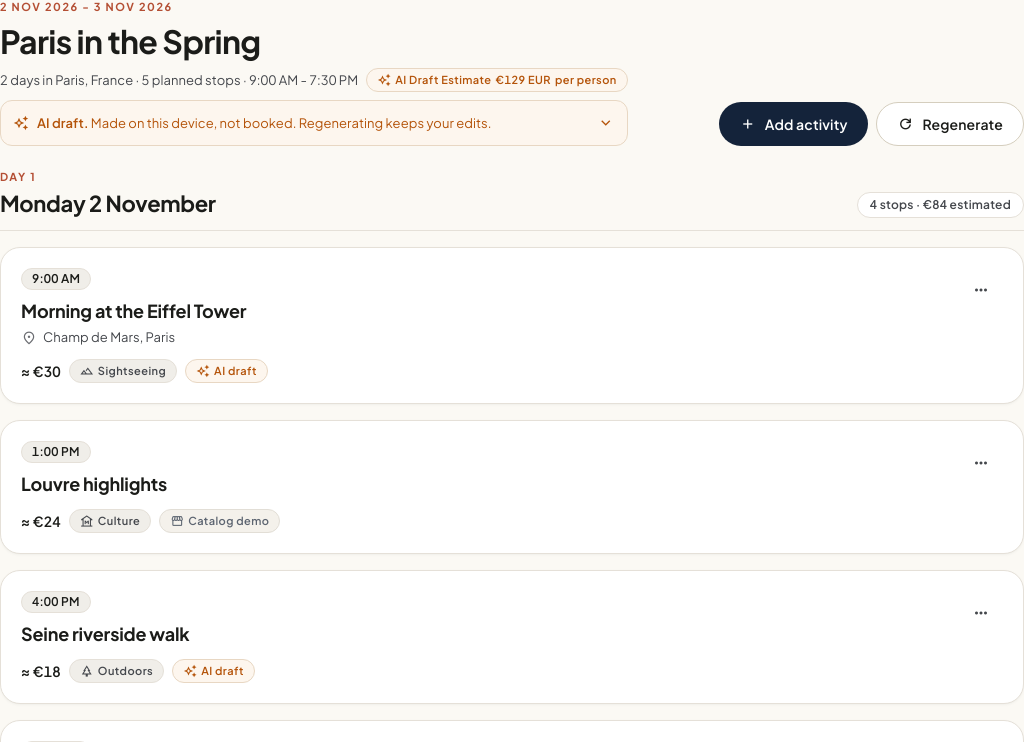
it: ItineraryPage › editing a stop › prefills the existing details and marks the stop as edited on save
Expected: the heading "Paris in the Spring" is shown, [0,21,261,61]
Click the button without text in the row of "Morning at the Eiffel Tower" at {"x": 981, "y": 290}, box [959,268,1003,312]
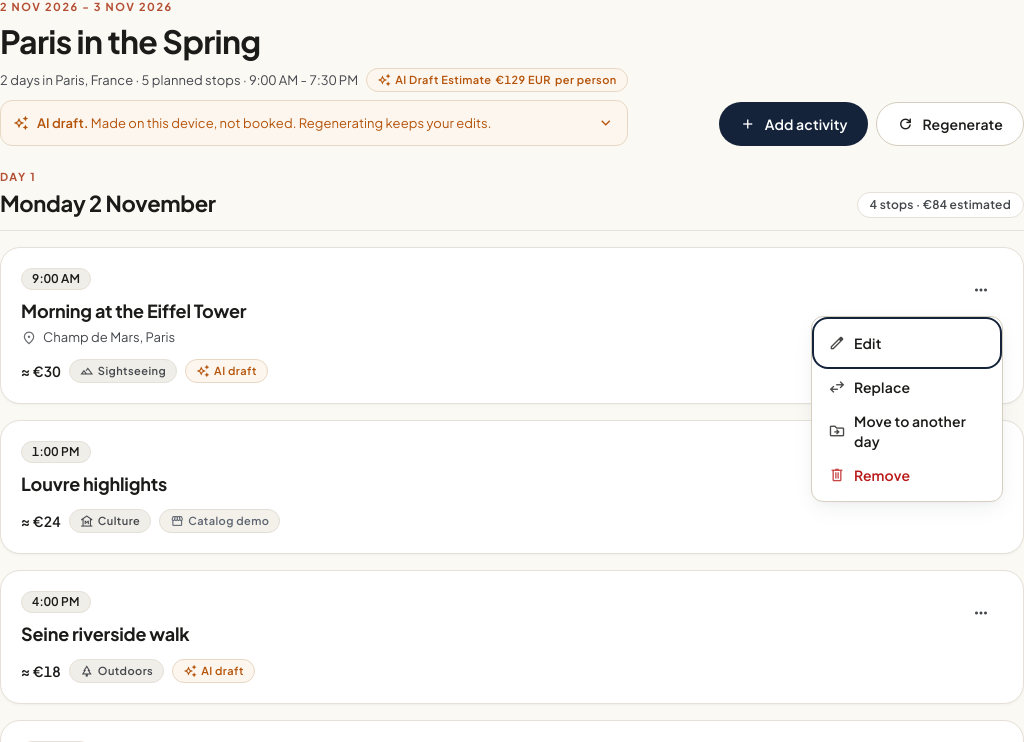
Click the menu item "Edit" at {"x": 907, "y": 343}, box [816,321,998,365]
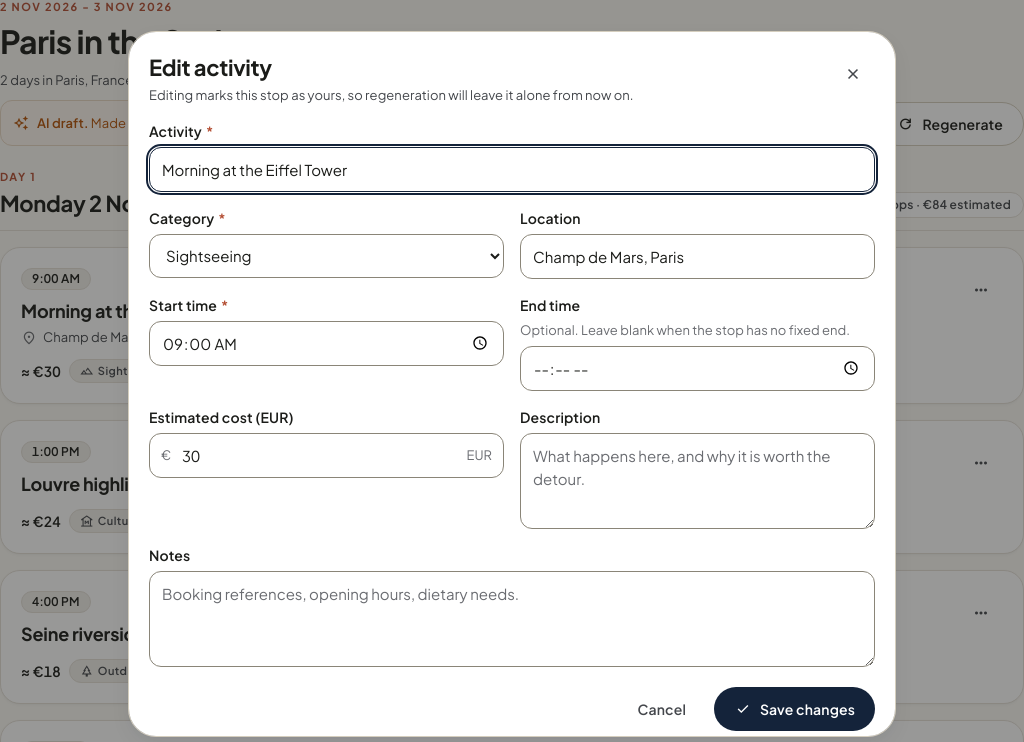
Now the heading "Edit activity" is shown, box [149,53,272,81]
Now the text "Editing marks this stop as yours, so regeneration will leave it alone from now on." is shown, box [149,87,634,103]
Now the field labelled "Activity*" holds "Morning at the Eiffel Tower"
Type " with the kids" into the field labelled "Activity*" at {"x": 512, "y": 169}, box [149,147,875,192]
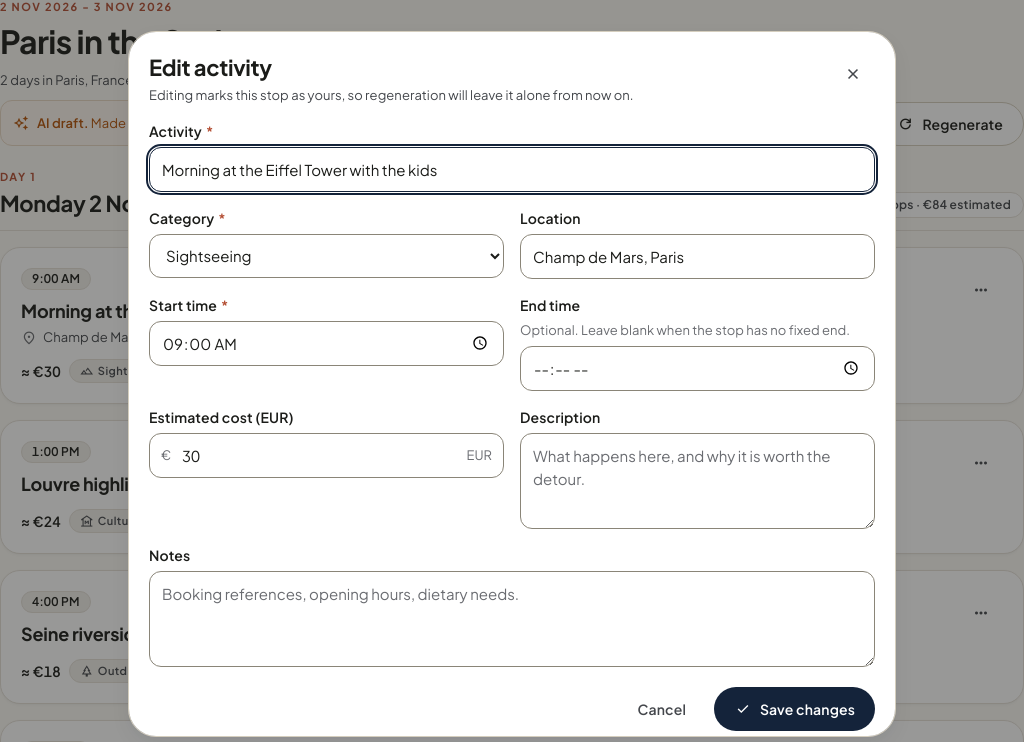
Type "Bring the pram" into the text box labelled "Notes" at {"x": 512, "y": 619}, box [149,571,875,667]
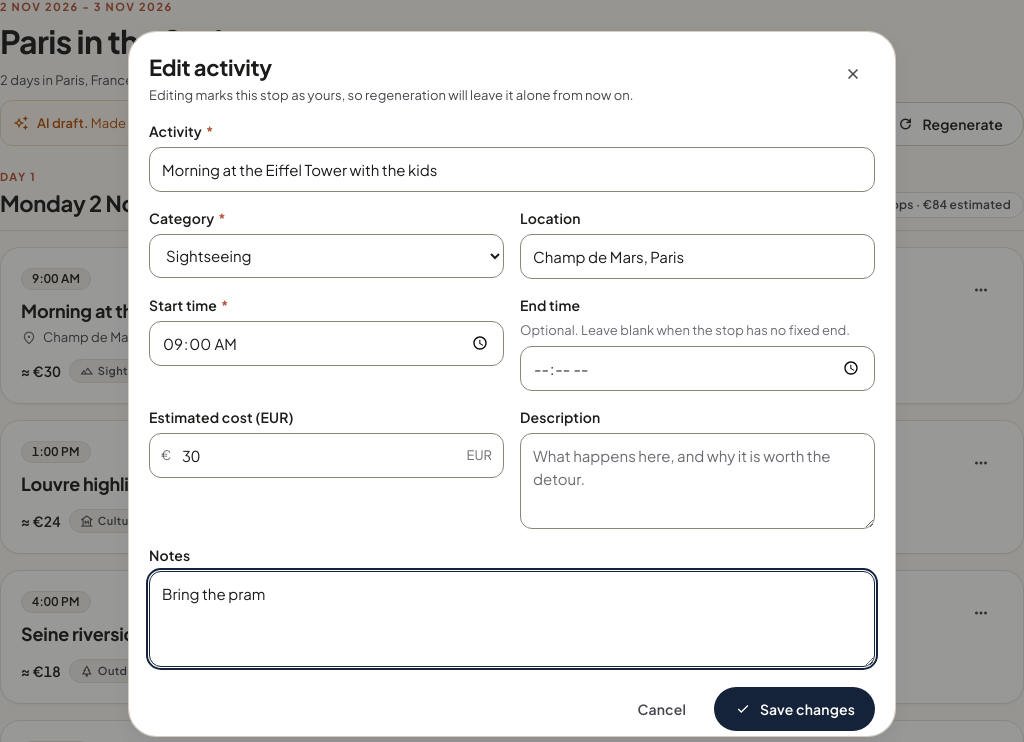
Click the button "Save changes" at {"x": 794, "y": 709}, box [714,687,875,731]
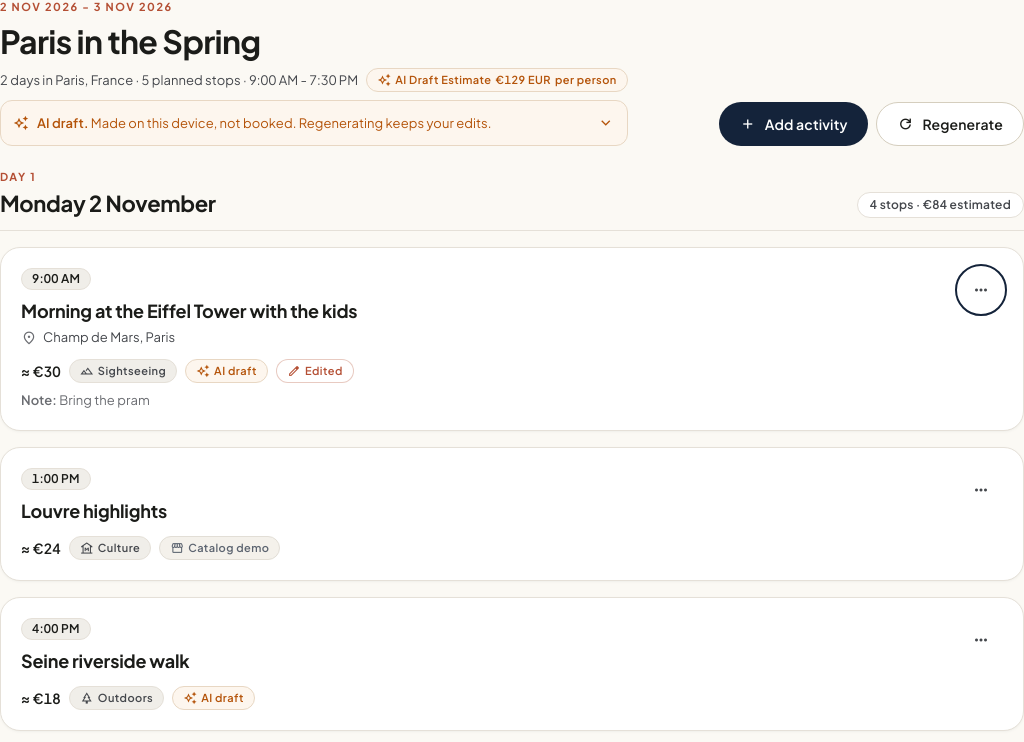
Now the dialog is gone
Now the text "Edited" is shown, box [276,359,354,383]
Now the text "Note:" is shown, box [21,392,57,408]
